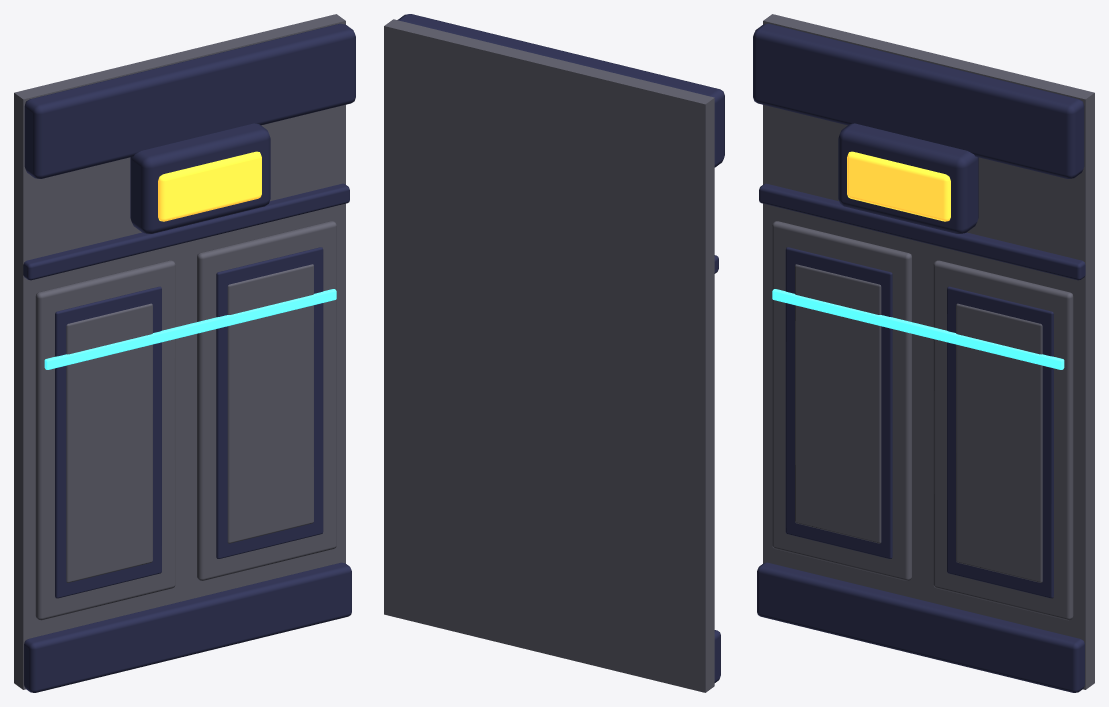
The model's file is int.wallpanel.cockpit+amber.w1.s0.i1.glb.
The picture shows the model from 3 angles, left to right: view 1: azimuth 30°, elevation 25°; view 2: azimuth 150°, elevation 25°; view 3: azimuth 330°, elevation 25°; orthographic projection.
Parts seen in each view (by area): view 1: int.wallpanel.cockpit+amber.w1.s0.i1; view 2: int.wallpanel.cockpit+amber.w1.s0.i1; view 3: int.wallpanel.cockpit+amber.w1.s0.i1.
Boxes of the visible parts, box(x1,y1,x2,y2) form: int.wallpanel.cockpit+amber.w1.s0.i1: box(14, 14, 355, 692); int.wallpanel.cockpit+amber.w1.s0.i1: box(384, 14, 724, 692); int.wallpanel.cockpit+amber.w1.s0.i1: box(753, 14, 1094, 692).
Bounding box in the file's own units: 1 × 1.75 × 0.2.
